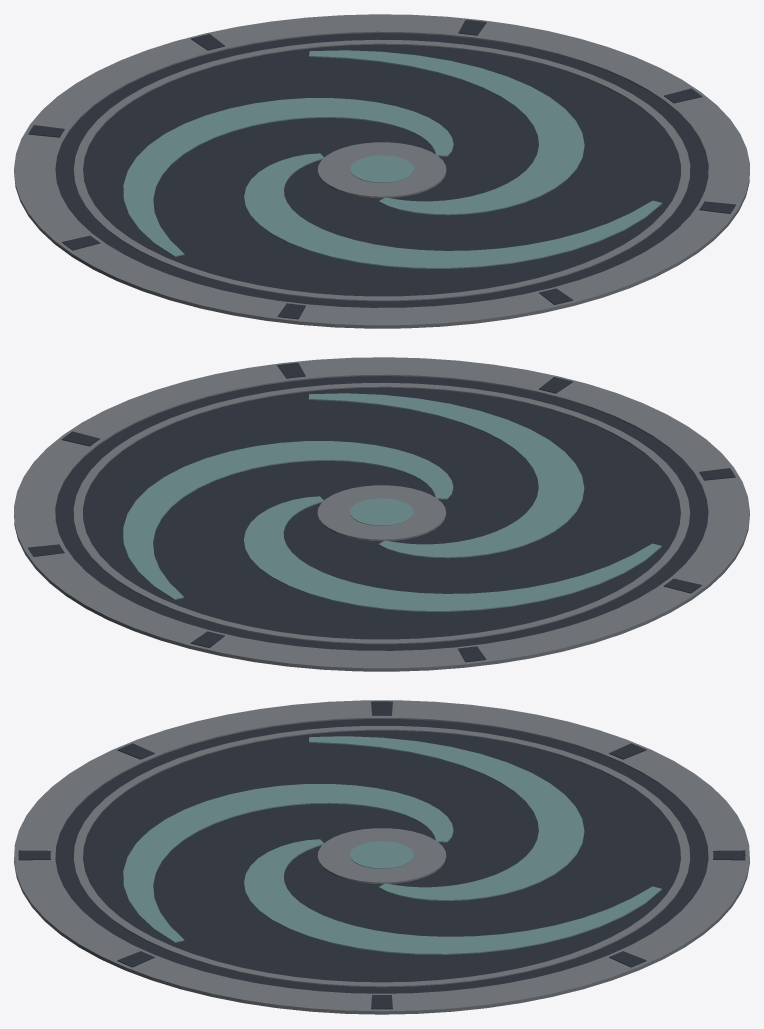
File: wind_dais_8m.glb
3 renders of one model, top to bottom at view 1: azimuth 30°, elevation 25°; view 2: azimuth 150°, elevation 25°; view 3: azimuth 270°, elevation 25°, orthographic.
Parts seen in each view (by area): view 1: wind_dais_8m; view 2: wind_dais_8m; view 3: wind_dais_8m.
Part boxes in pixels (x1=…): wind_dais_8m: x1=14, y1=14, x2=749, y2=328; wind_dais_8m: x1=14, y1=357, x2=749, y2=671; wind_dais_8m: x1=14, y1=700, x2=749, y2=1014.
Bounding box in the file's own units: 8 × 0.051 × 8.
